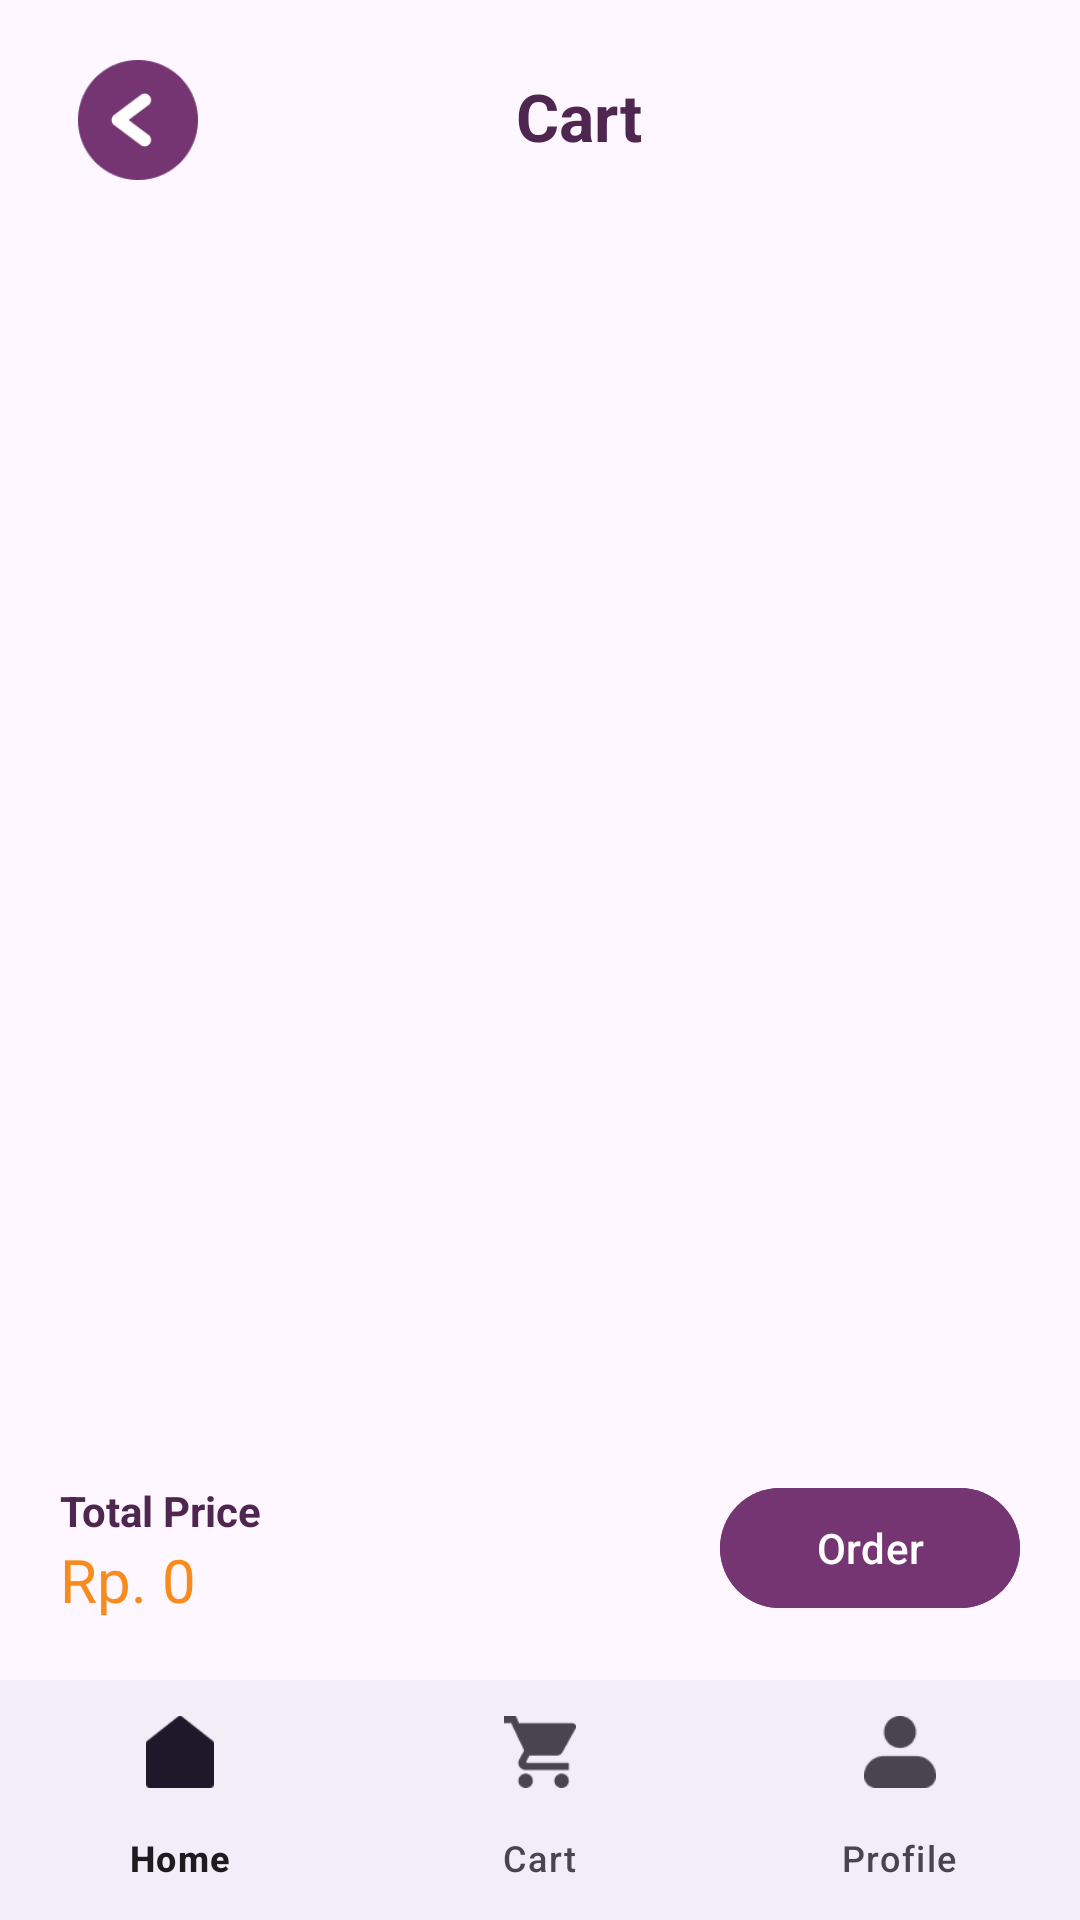

Named icons in this screenshot (1080×1920) and their bounding boxes, region(x1, y1, x2, y2):
back: region(78, 60, 198, 180)
